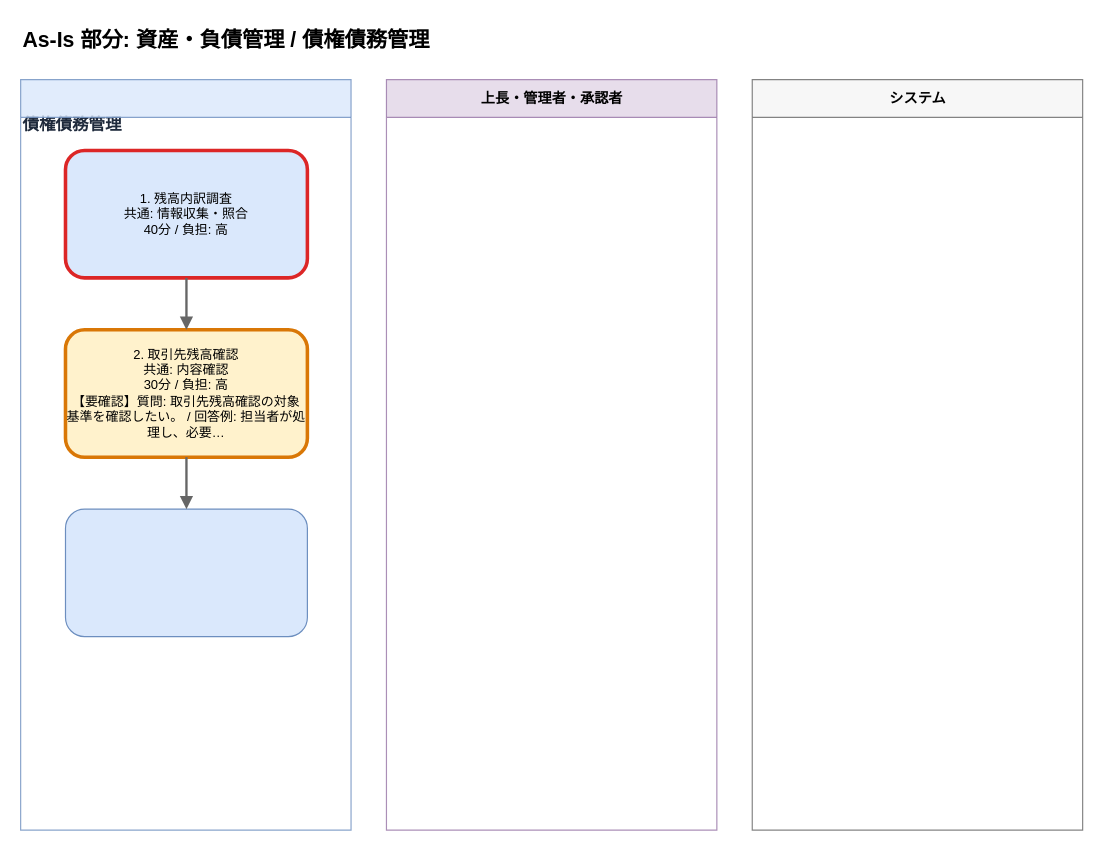
This 1103x851 diagram has some shape labels left out. Each missing label, with the box of its shape:
3. 報告・措置 共通: 報告・提出 20分 / 負担: 中: (64, 508, 307, 637)
担当者・業務部門: (19, 78, 351, 830)
